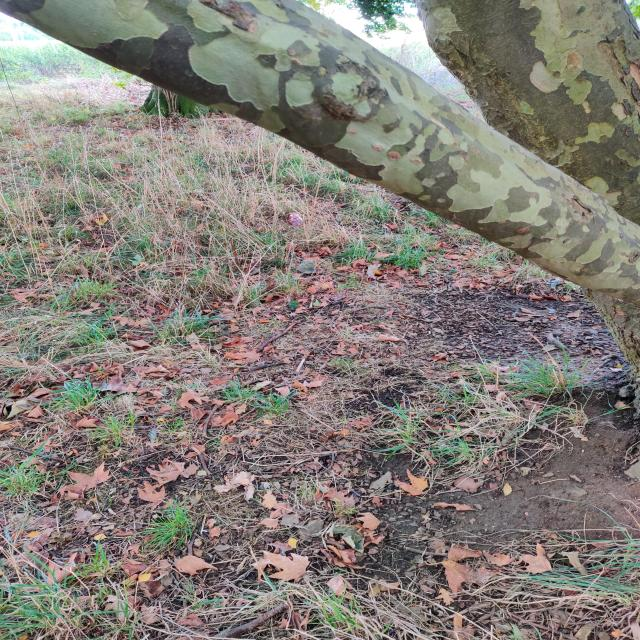litter: (289, 212, 302, 226)
